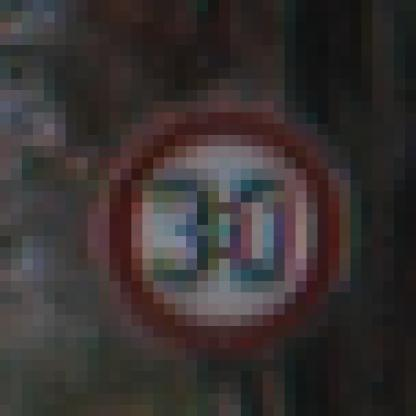Speed Limit 30: (105, 100, 342, 354)
